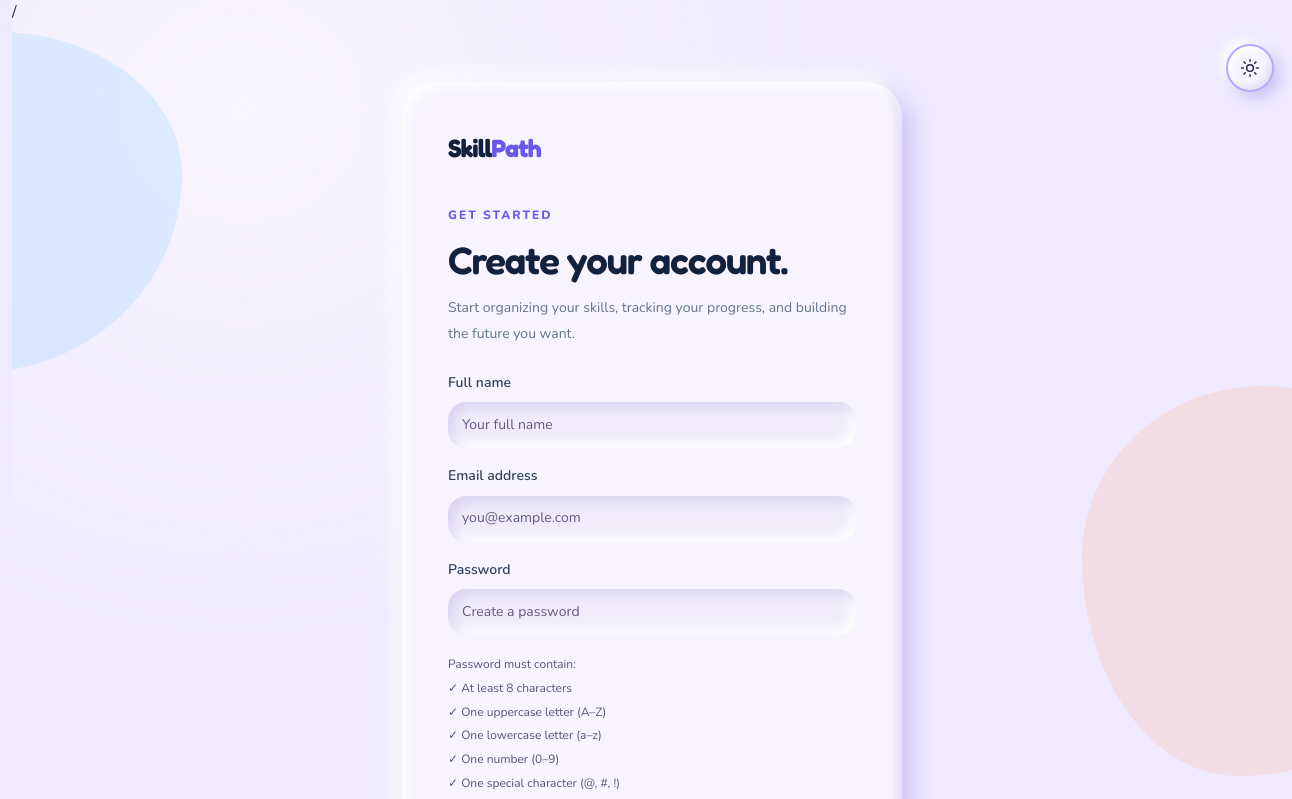
Additional page branches › shows registration API errors and success feedback
The width and height of the screenshot is (1292, 799).
Type "Alex Student" into the field labelled "Full name" at (652, 425), box [448,402,856,448]
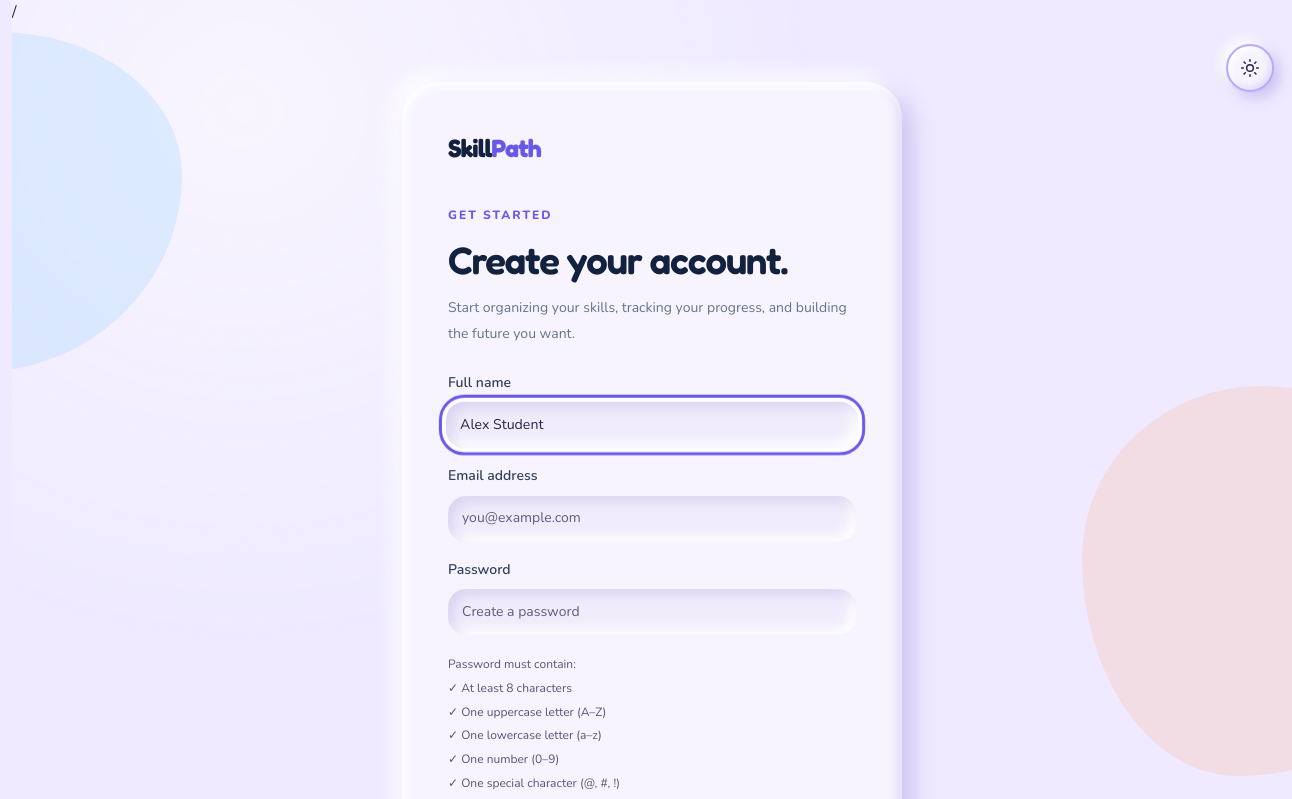
Type "alex@example.com" into the field labelled "Email address" at (652, 519), box [448,496,856,542]
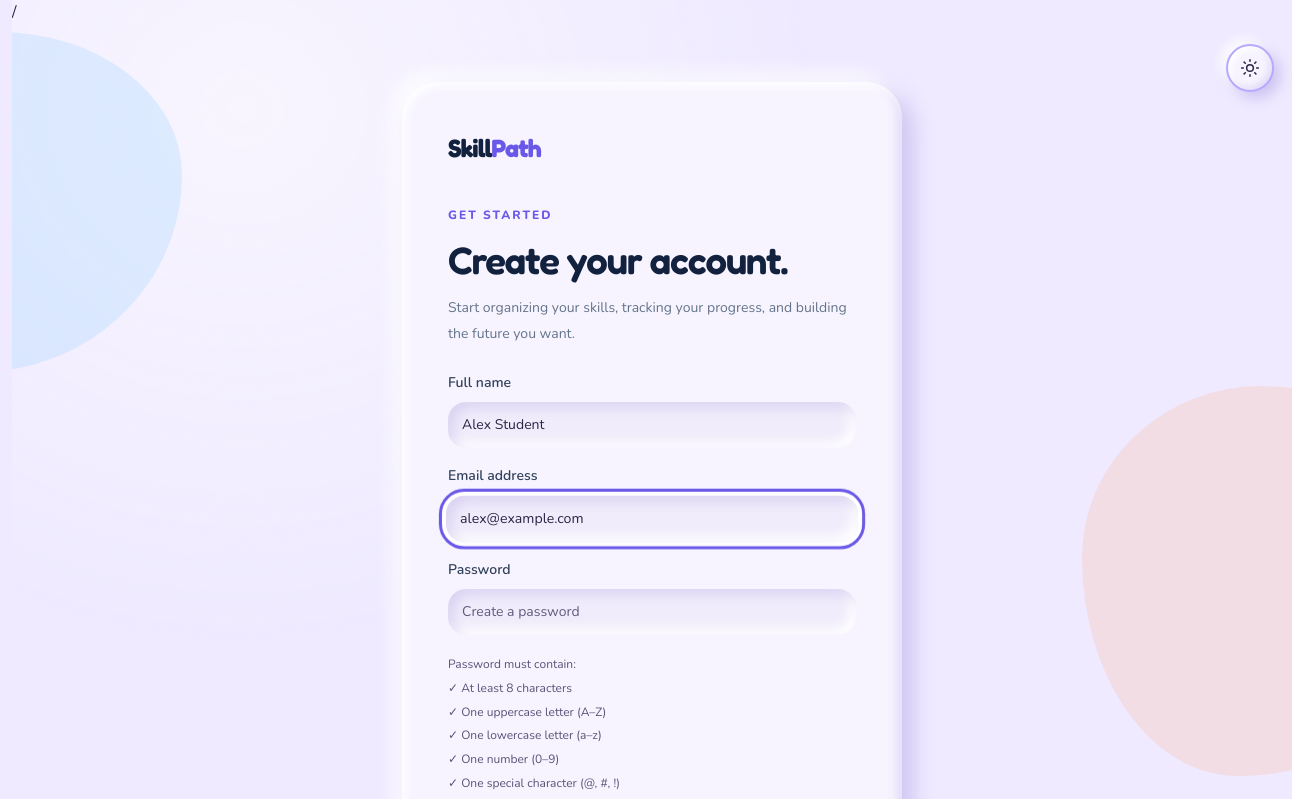
Type "StrongPass1!" into the password field labelled "Password" at (652, 612), box [448,589,856,635]
(page scrolled)
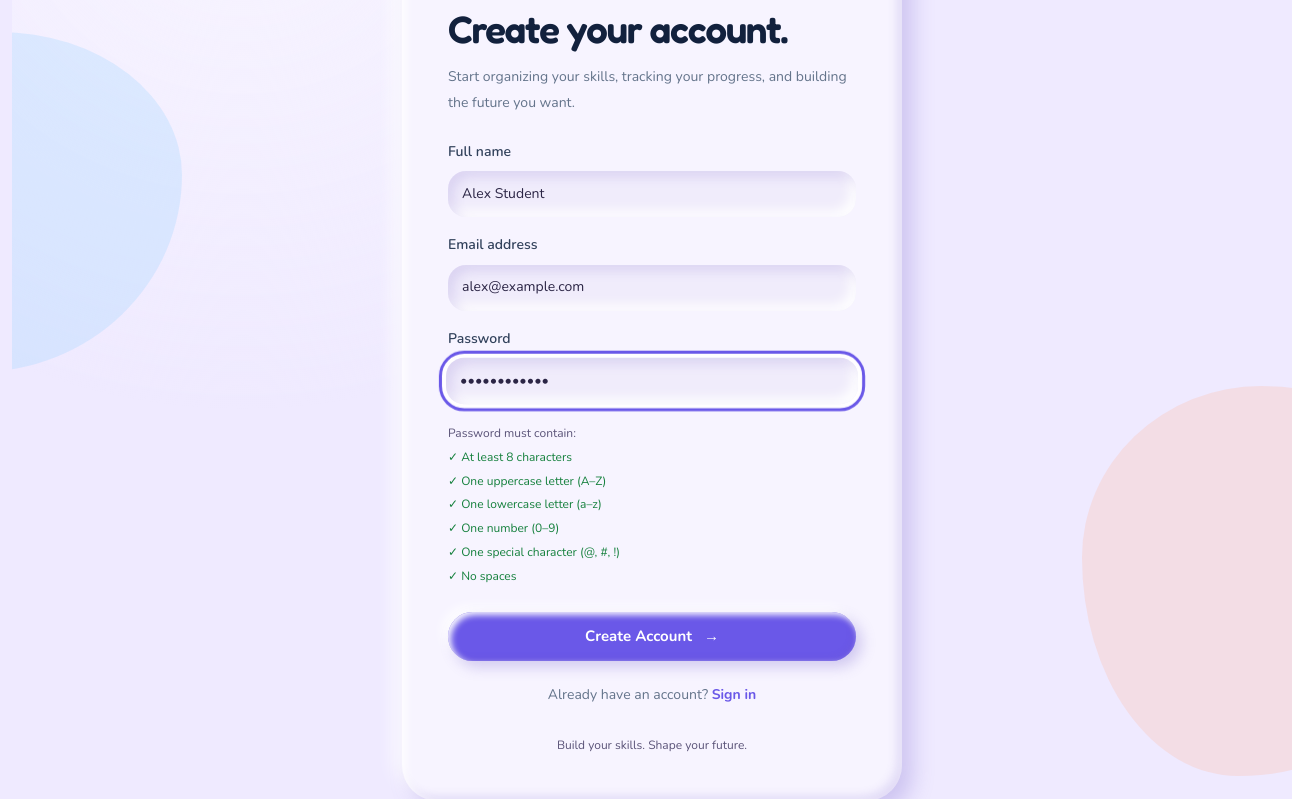
Submit the form, box [448,141,856,661]
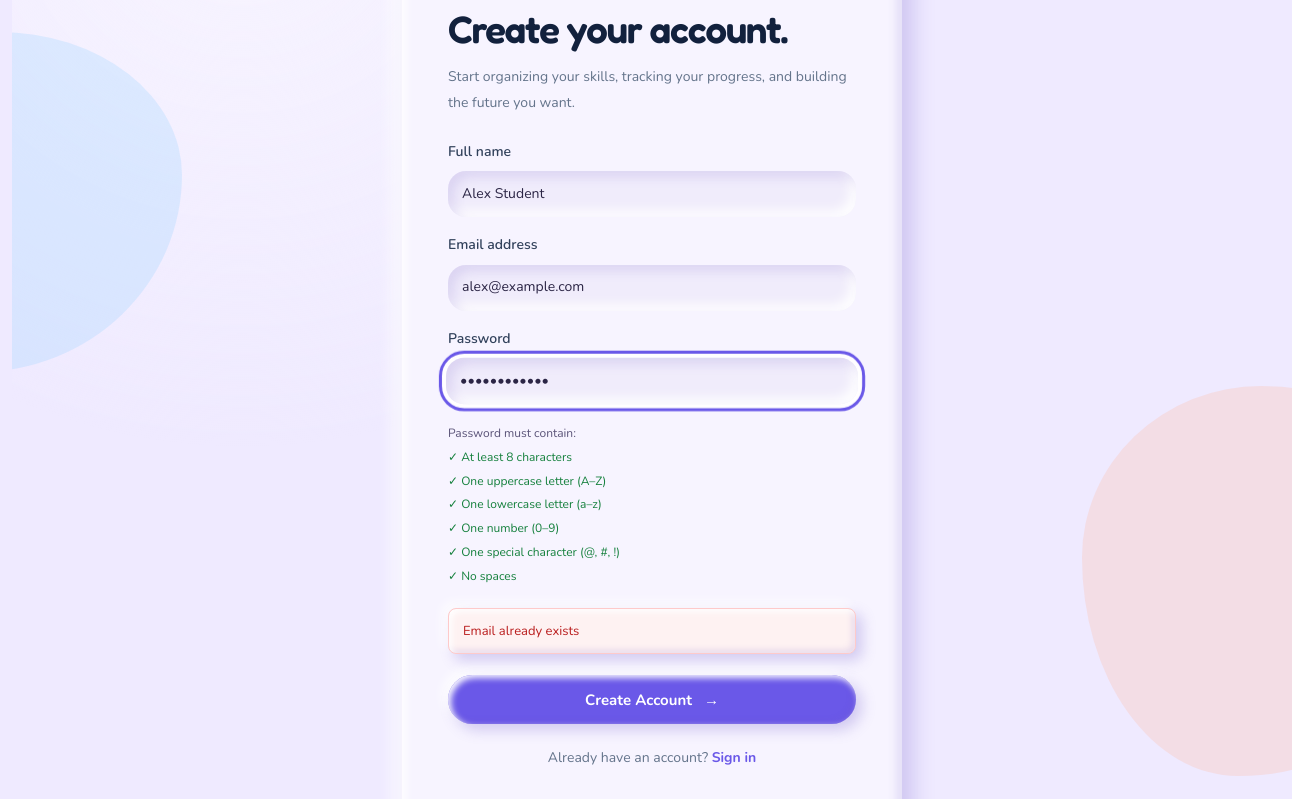
Check: the message reads "Email already exists", box [463,622,579,640]
Submit the form, box [448,141,856,724]
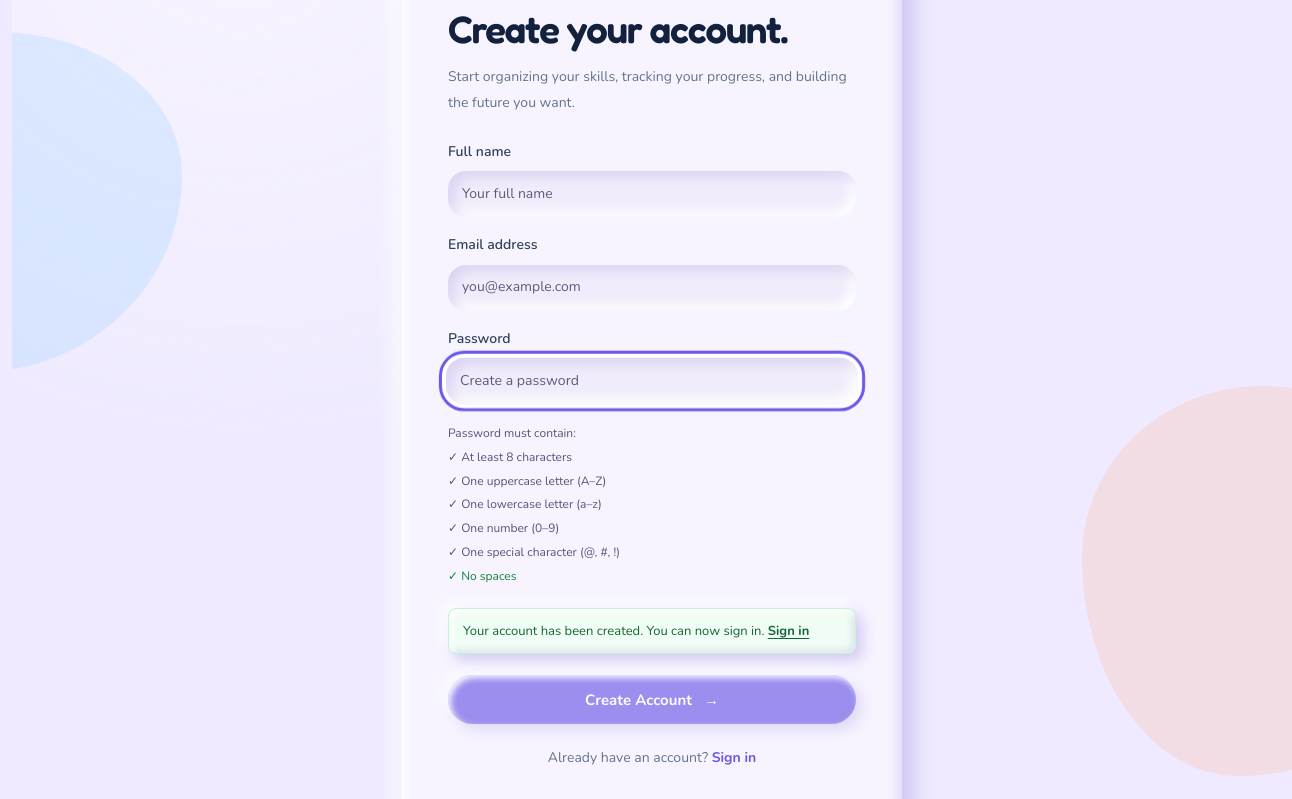
Check: the text "Your account has been created. You can now sign in." is shown, box [463,622,764,640]
